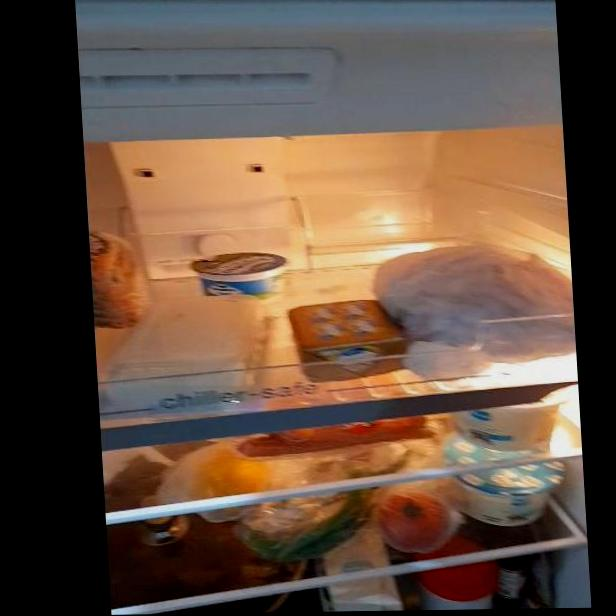bread: (89, 229, 153, 324)
butter: (285, 300, 401, 370)
carrot: (241, 420, 432, 445)
cheese: (123, 309, 251, 378)
green chilies: (249, 499, 401, 552)
lemon: (195, 449, 272, 505)
milk: (325, 551, 399, 612)
tomato: (381, 497, 454, 545)
yoghurt: (469, 466, 560, 522), (195, 251, 289, 301), (453, 404, 563, 445)
